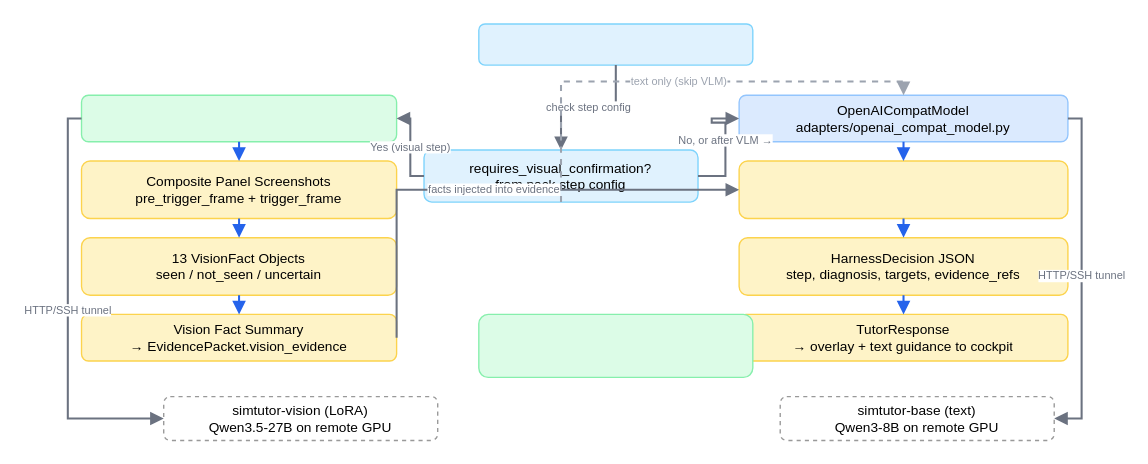
Some shapes in this 1148 by 464 pixel diagram are drawn without their labels. Each missing label, with the centre of its shape:
Help Request Received (X1): point 615,44
Text Prompt Evidence + Candidates + RAG + Specs: point 903,189
VisionFactExtractor adapters/vision_fact_extractor.py: point 238,118
Visual-Priority Steps Only: S08, S15, S18, S19: point 615,345
